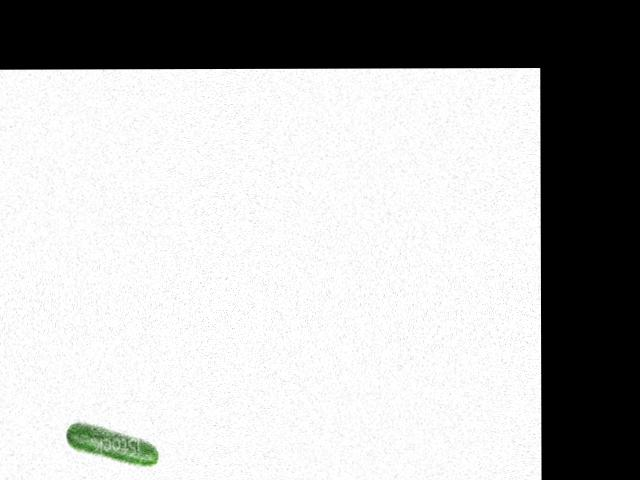cucumber: (65, 423, 158, 466)
